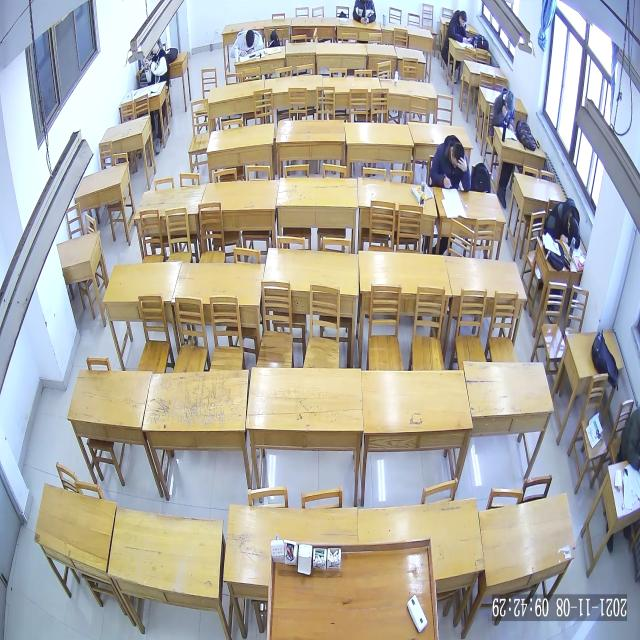bow: (548, 198, 580, 248), (230, 29, 264, 58)
down: (451, 142, 465, 168), (505, 92, 515, 112), (246, 30, 254, 48), (460, 10, 468, 28)
sit: (431, 135, 471, 193), (142, 38, 170, 88), (492, 87, 515, 132), (447, 10, 472, 44)
